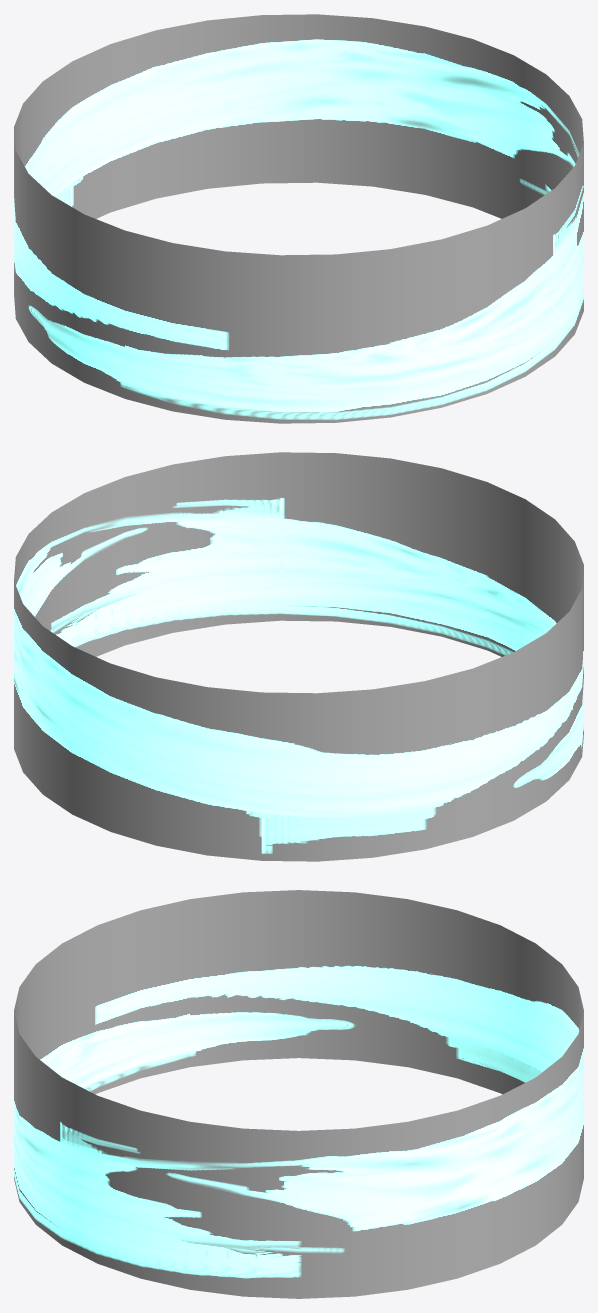
Rendered from arrowcircle.glb.
3 views of the same model, one above another, from view 1: azimuth 30°, elevation 25°; view 2: azimuth 150°, elevation 25°; view 3: azimuth 270°, elevation 25° (orthographic).
Visible parts, largest first — view 1: Cylinder; view 2: Cylinder; view 3: Cylinder.
Part boxes in pixels (box(x1,y1,x2,y2)): Cylinder: box(14, 14, 583, 423); Cylinder: box(14, 452, 583, 861); Cylinder: box(14, 890, 583, 1298).
Size of the model in its own units: 1.19 by 0.3863 by 1.19.
